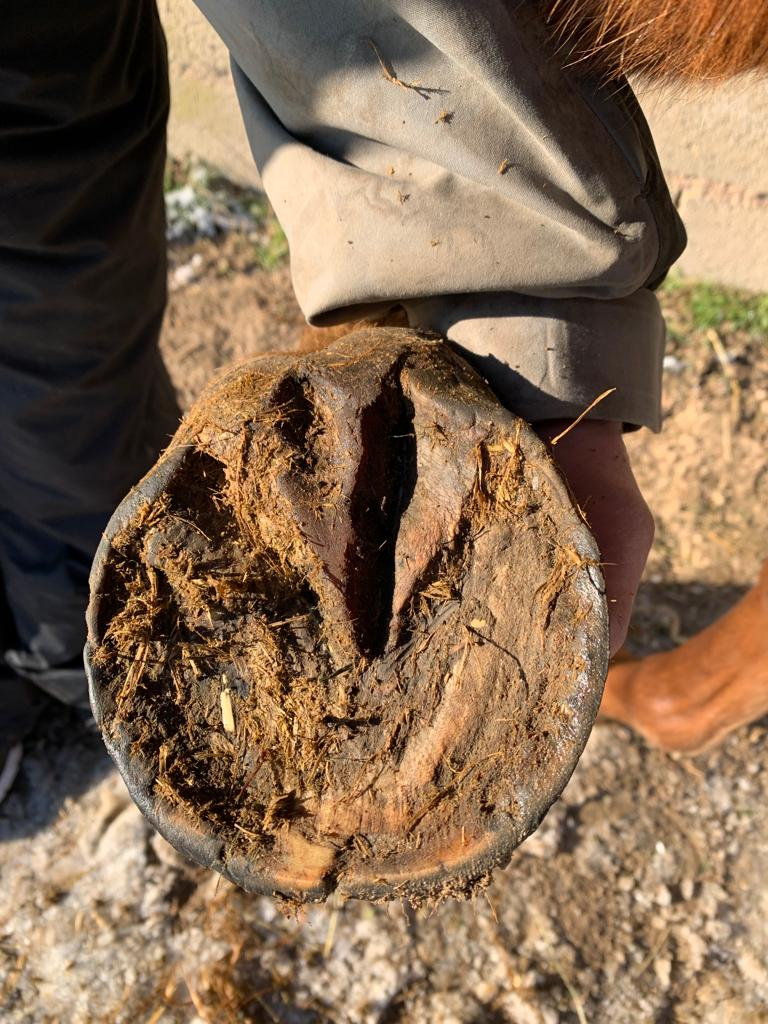horsesole: (83, 373, 610, 903)
